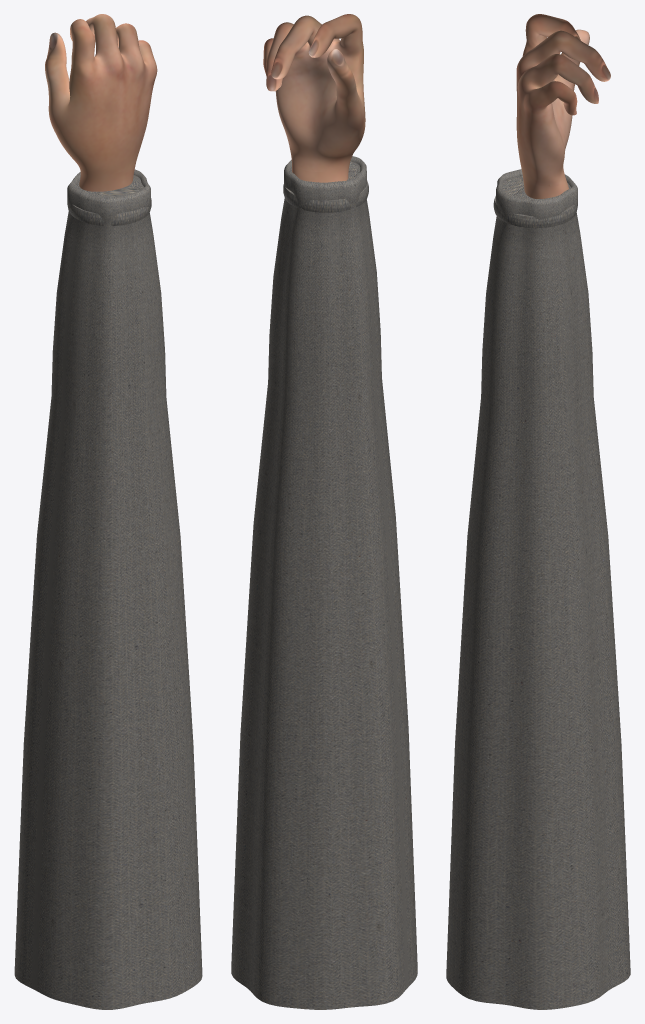
Rendered from hand_grip.glb.
3 renders of one model, left to right at view 1: azimuth 30°, elevation 25°; view 2: azimuth 150°, elevation 25°; view 3: azimuth 270°, elevation 25°, orthographic. The views are drawn at different scales.
Visible parts, largest first — view 1: CoatSleeve, HandSkin, CuffSeam; view 2: CoatSleeve, HandSkin, CuffSeam; view 3: CoatSleeve, HandSkin, CuffSeam.
Boxes of the visible parts, box(x1,y1,x2,y2) form: CoatSleeve: box(14, 169, 202, 1009); HandSkin: box(45, 14, 157, 191); CuffSeam: box(69, 198, 151, 225); CoatSleeve: box(231, 156, 417, 1009); HandSkin: box(263, 14, 365, 182); CuffSeam: box(283, 180, 368, 212); CoatSleeve: box(446, 169, 630, 1009); HandSkin: box(516, 14, 610, 198); CuffSeam: box(493, 196, 577, 227).
Size of the model in its own units: 0.1465 by 0.8199 by 0.1453.
Materials: 2 (2 with a texture image).
